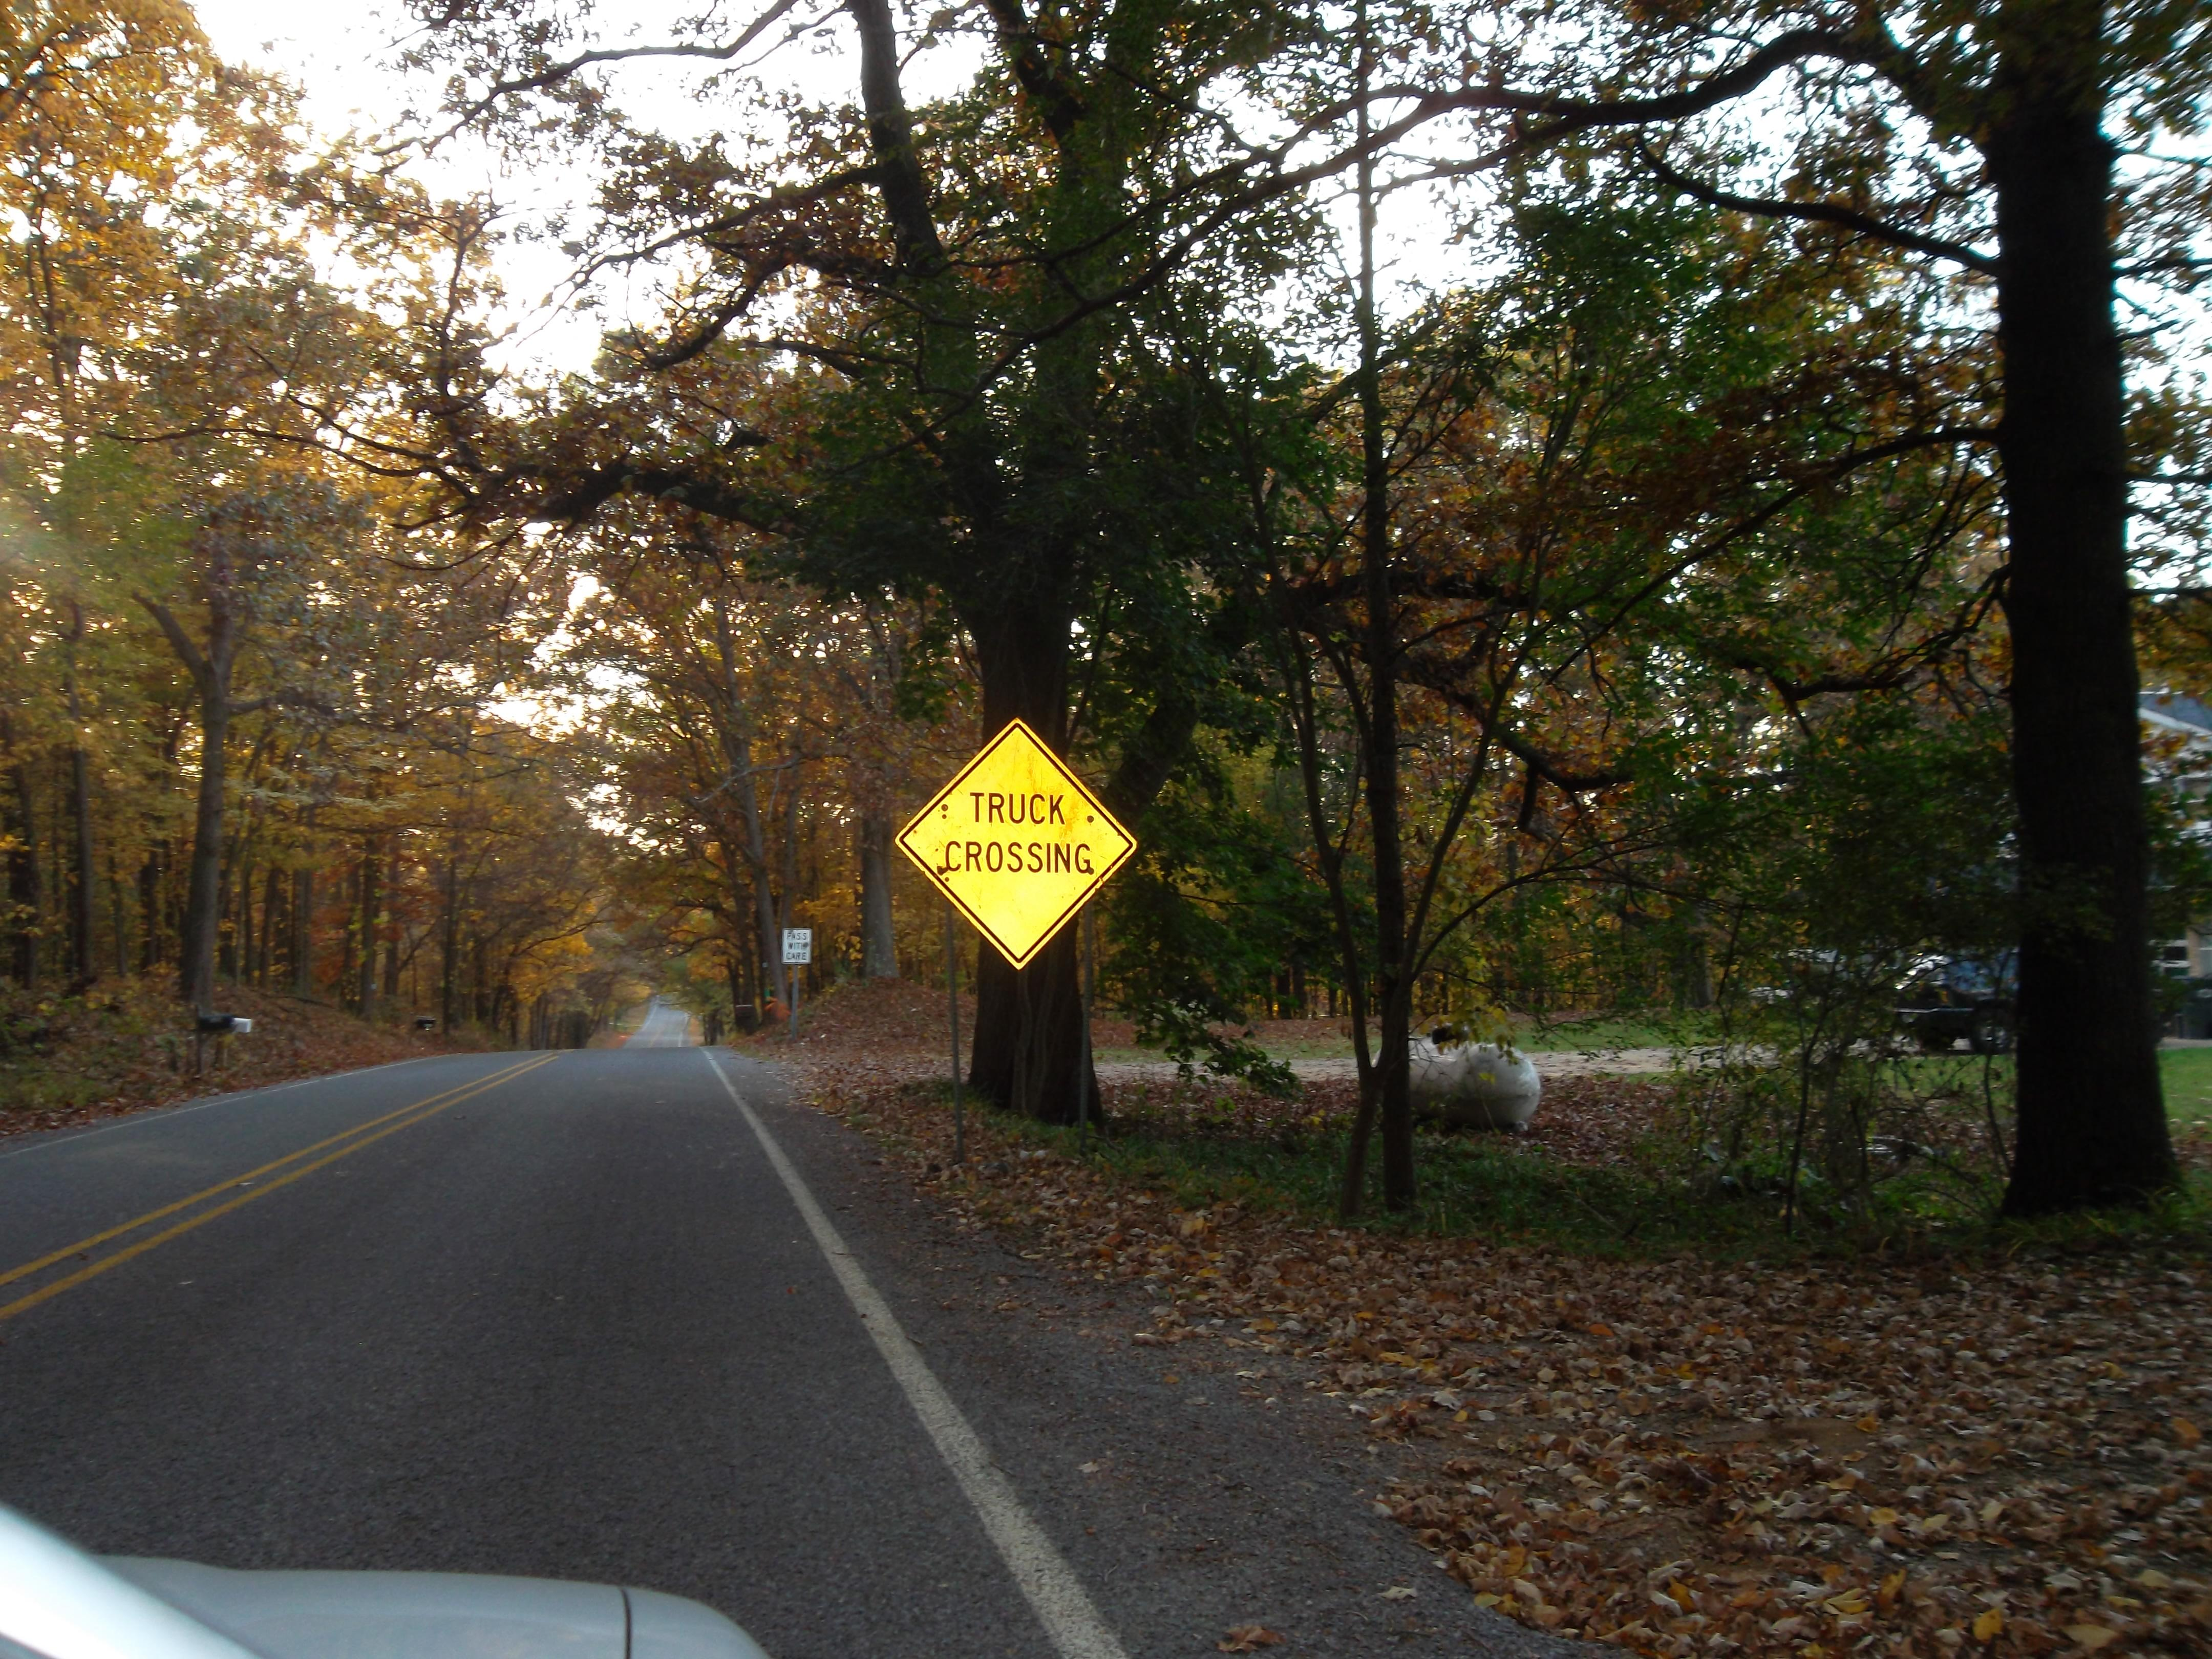warning: (895, 702, 1143, 974)
